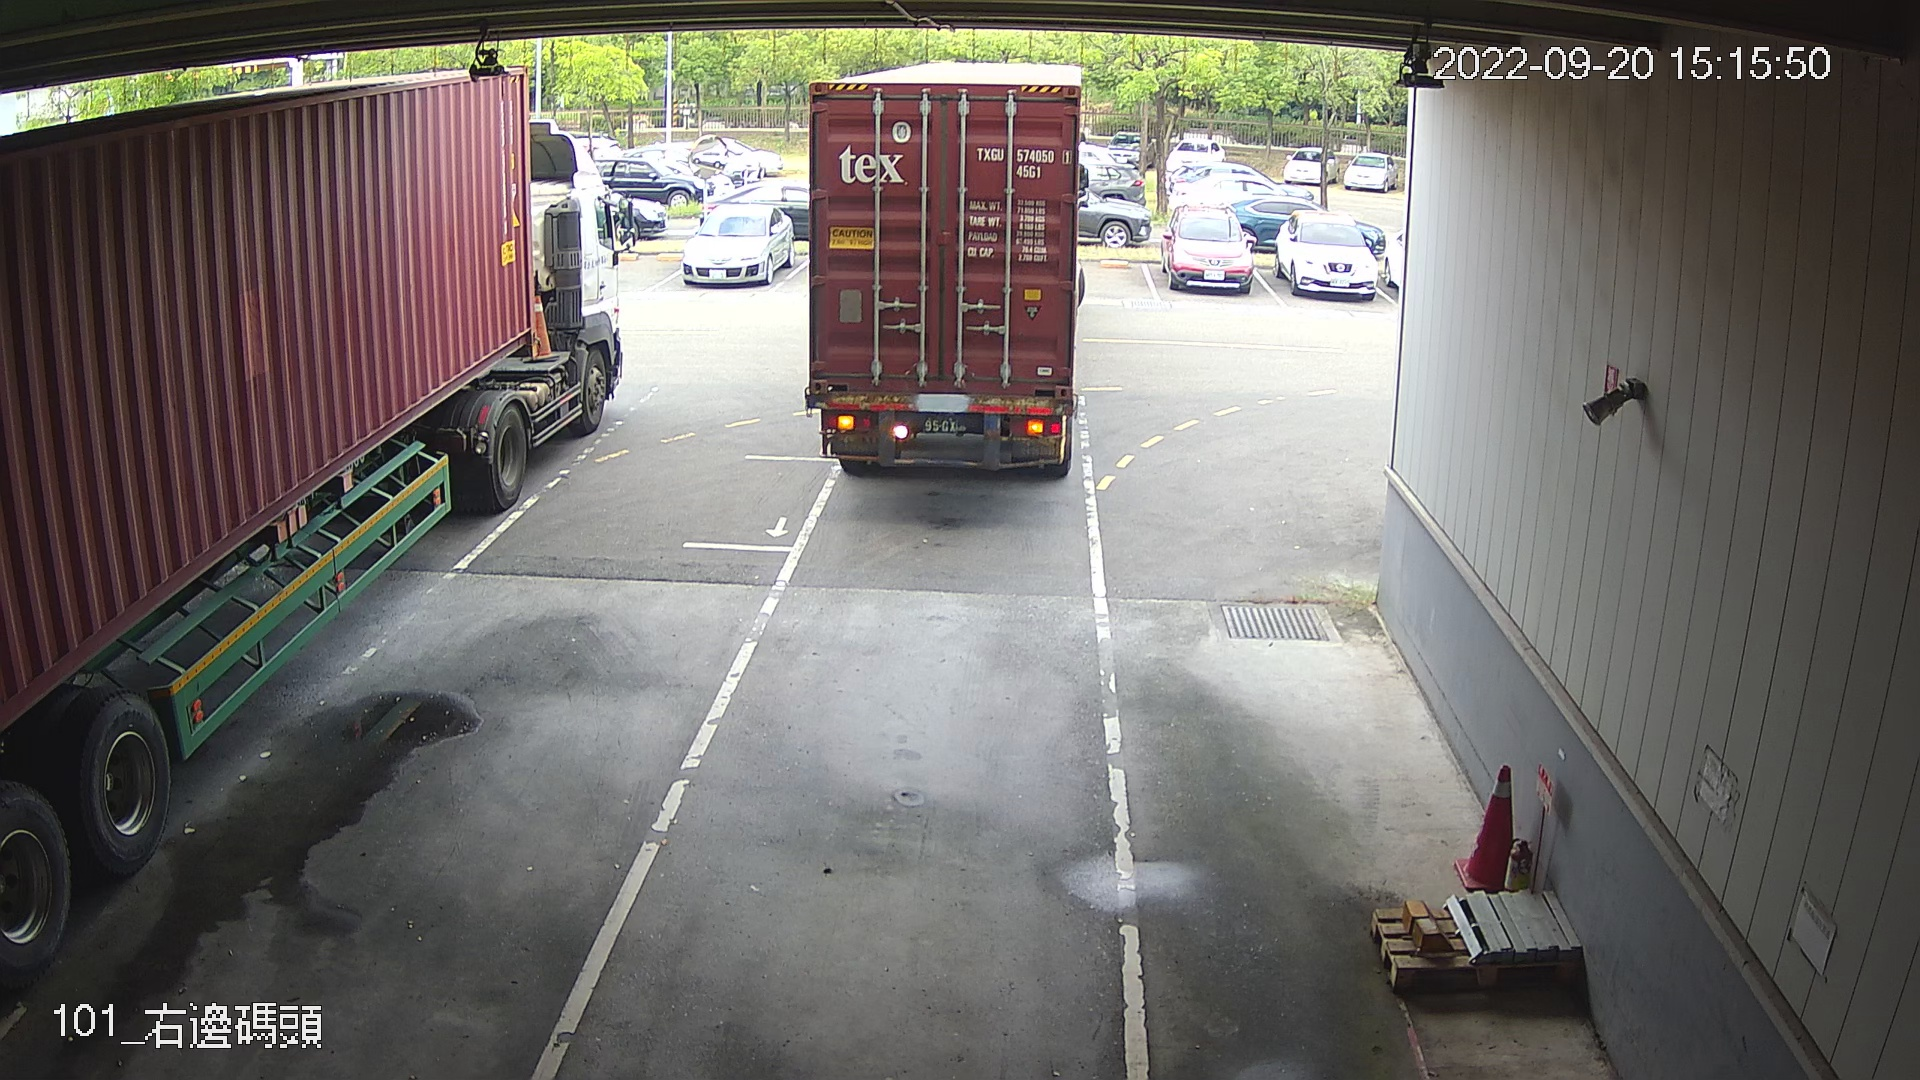container: (971, 138, 1073, 182)
